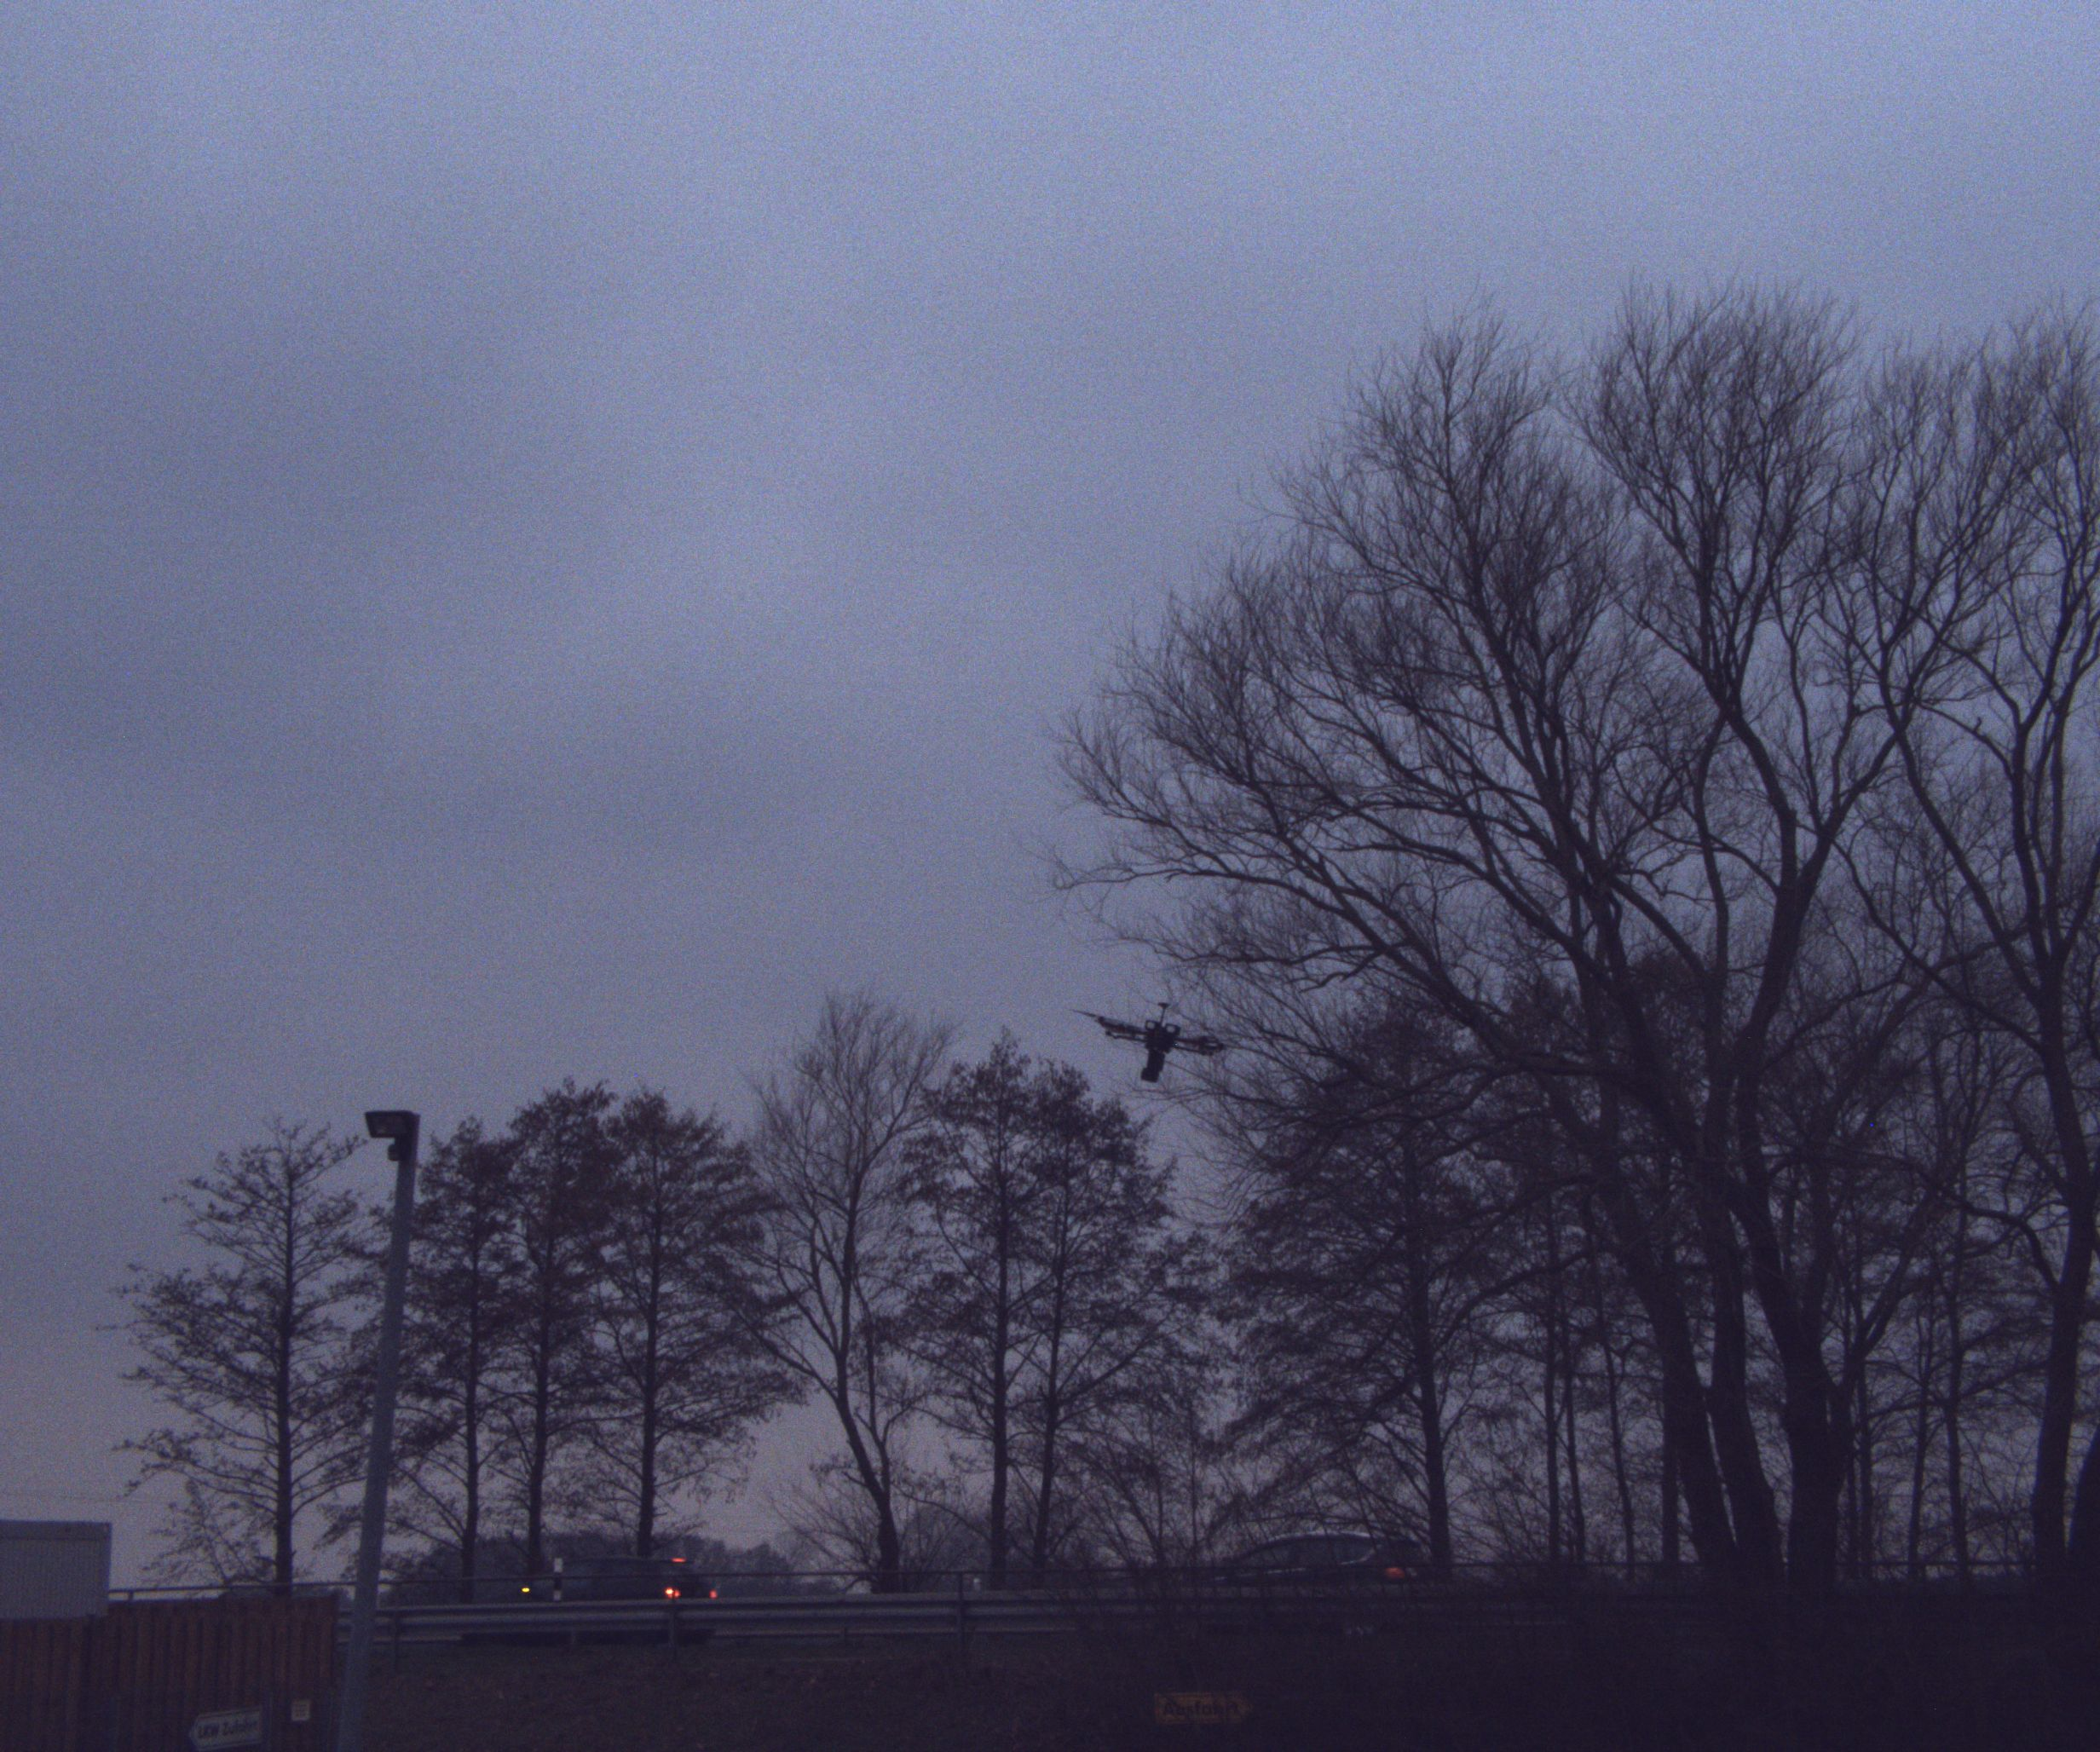Drohne: (1045, 961, 1265, 1133)
